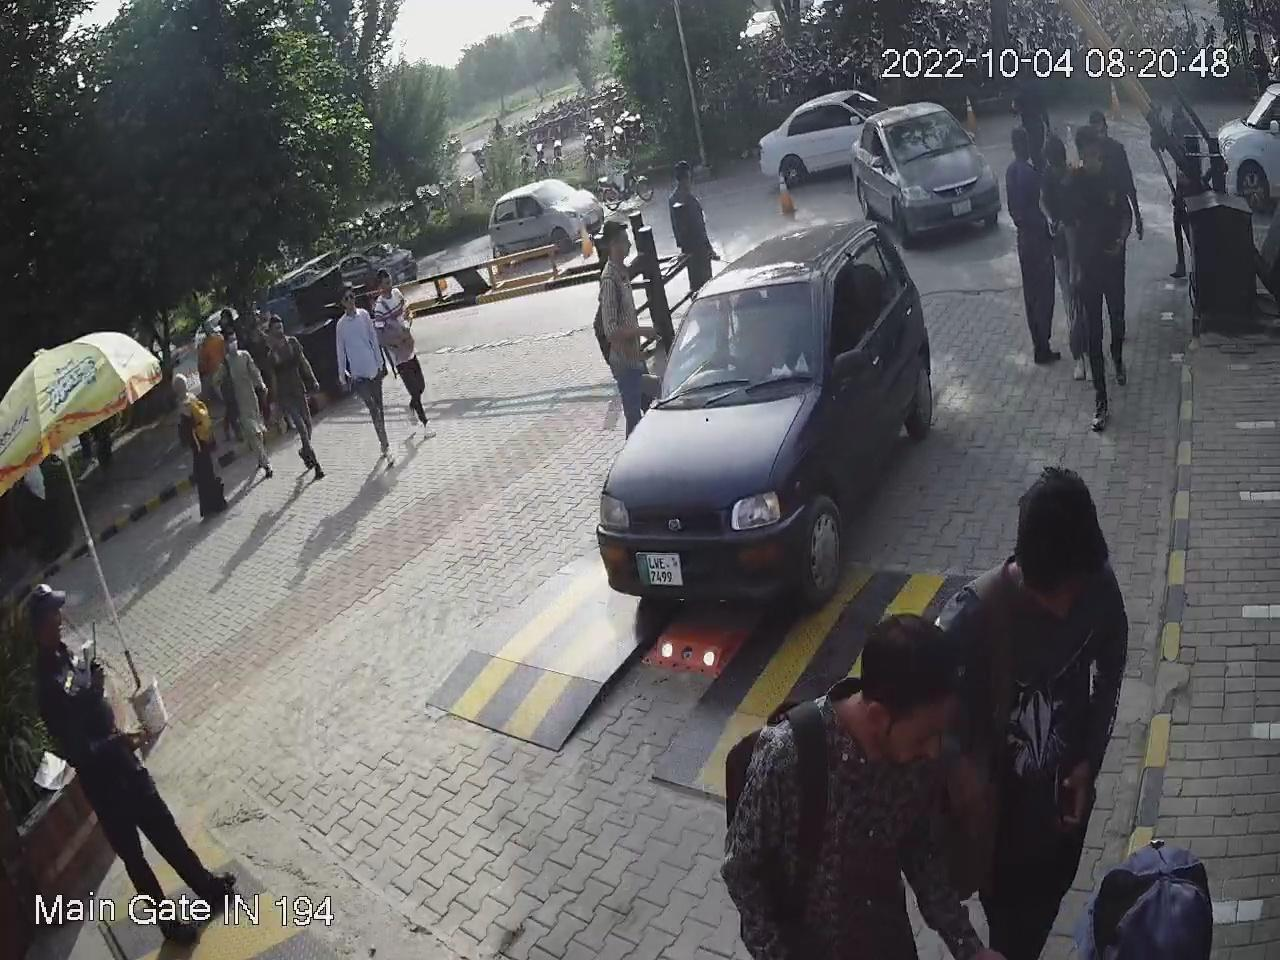windshield: (655, 265, 830, 407)
